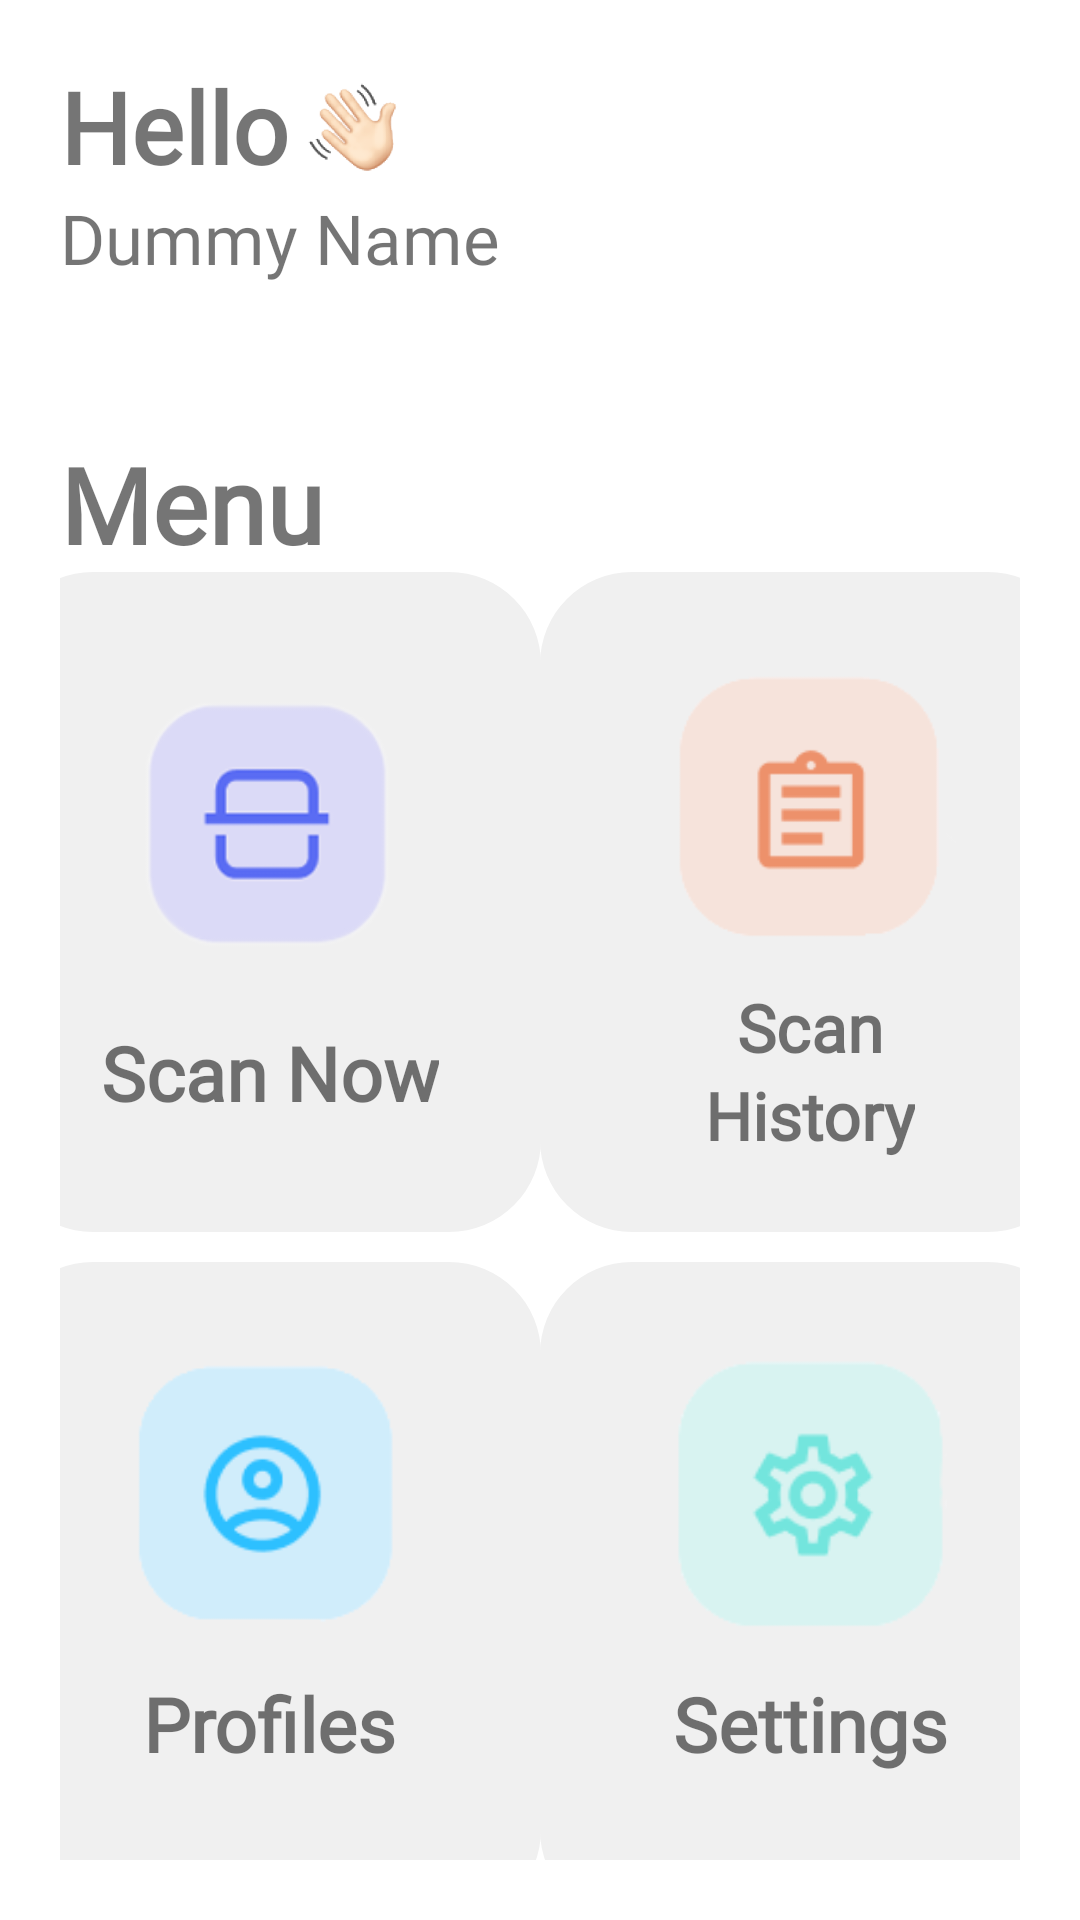

Icons on this 1080px x 1920px Android screen, each with its box as [left=x1, top=y1, right=x2, bottom=y2]:
profile oke: [left=140, top=1369, right=391, bottom=1619]
scan oke: [left=150, top=706, right=385, bottom=942]
setting oke: [left=752, top=1433, right=874, bottom=1557]
tangan: [left=309, top=84, right=396, bottom=171]
